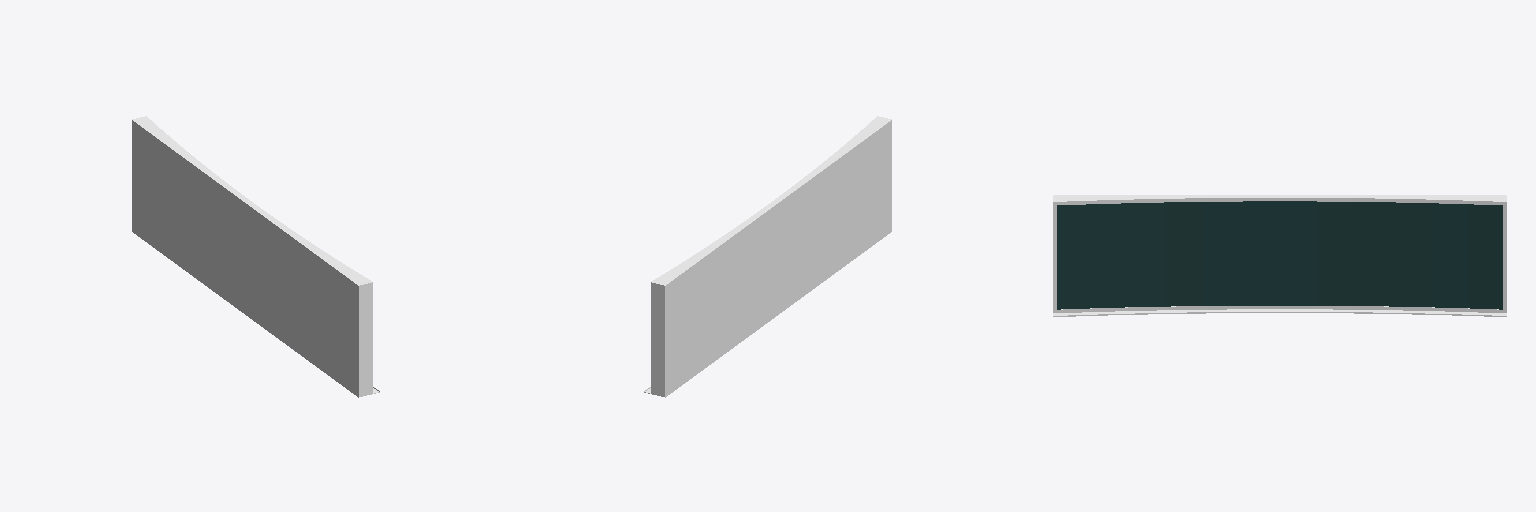
File: blackboard.obj
The picture shows the model from 3 angles: view 1: azimuth 30°, elevation 25°; view 2: azimuth 150°, elevation 25°; view 3: azimuth 270°, elevation 25°; orthographic projection.
Visible parts, largest first — view 1: Blackboard_001; view 2: Blackboard_001; view 3: Blackboard_001.
Part boxes in pixels (left/top/right/bottom): Blackboard_001: left=132, top=116, right=379, bottom=397; Blackboard_001: left=644, top=116, right=891, bottom=397; Blackboard_001: left=1053, top=195, right=1506, bottom=316.
Size of the model in its own units: 9.85 by 48.21 by 177.